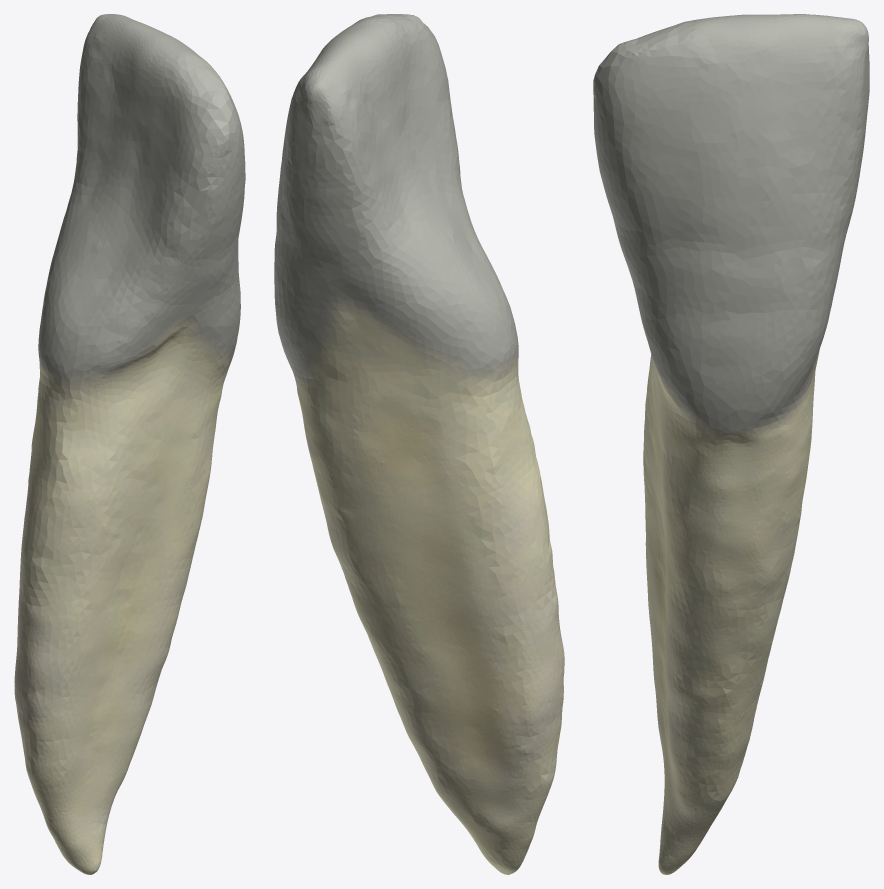
The model's file is 42 -  incisivo lateral inferior direito.glb.
The picture shows the model from 3 angles, left to right: view 1: azimuth 30°, elevation 25°; view 2: azimuth 150°, elevation 25°; view 3: azimuth 270°, elevation 25°; orthographic projection. The views are drawn at different scales.
Visible parts, largest first — view 1: 3MFMeshParent_0; view 2: 3MFMeshParent_0; view 3: 3MFMeshParent_0.
Boxes of the visible parts, <box> form: 3MFMeshParent_0: <box>14,14,245,874</box>; 3MFMeshParent_0: <box>274,14,564,874</box>; 3MFMeshParent_0: <box>593,14,869,874</box>.
Bounding box in the file's own units: 0.1552 × 0.512 × 0.1399.
1 material, 1 textured.
